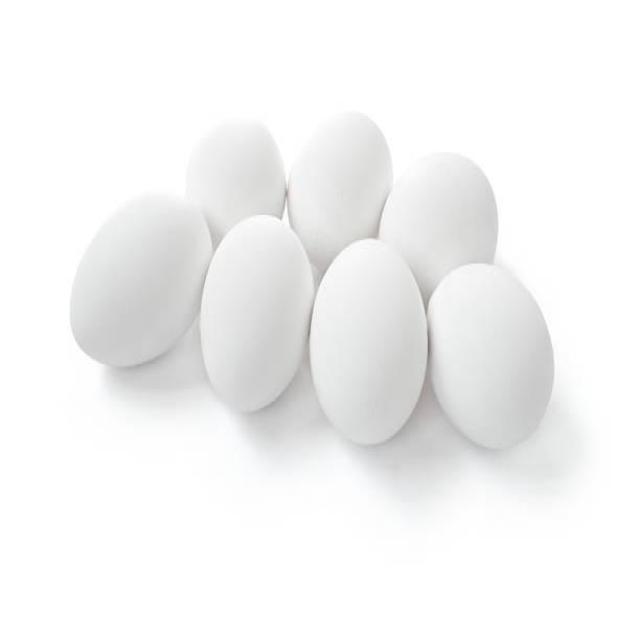Egg: (70, 193, 211, 367), (311, 240, 427, 444), (428, 264, 553, 449), (201, 215, 314, 411), (379, 152, 497, 304), (289, 111, 392, 273), (186, 122, 283, 248)
